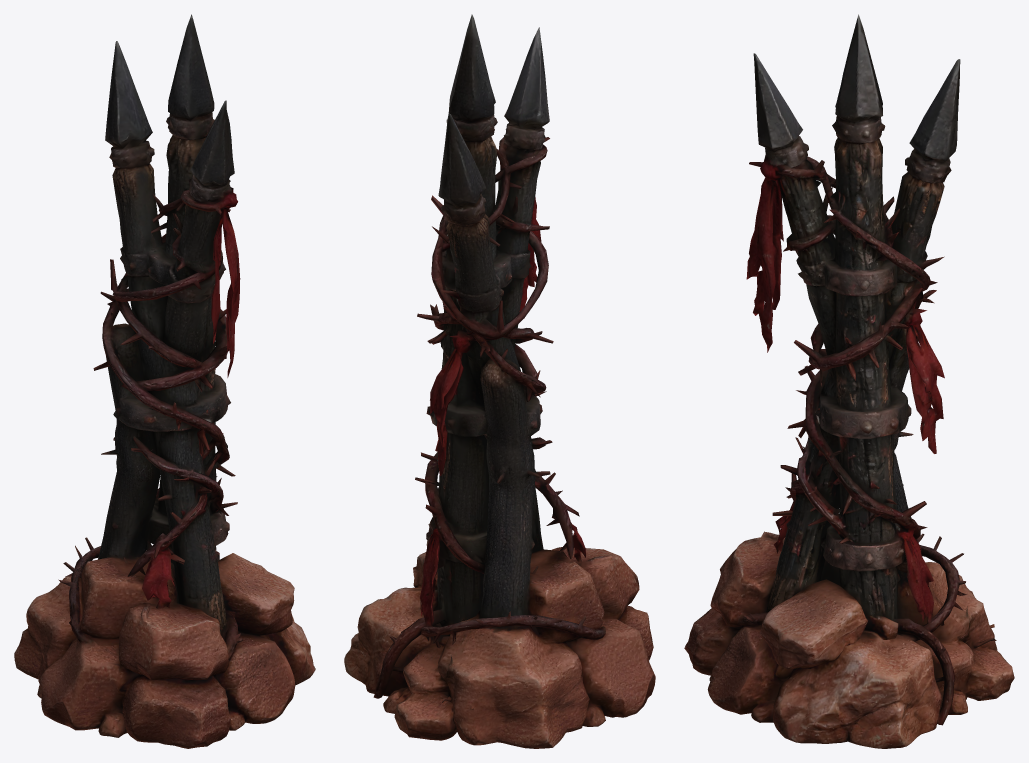
The model's file is kill_stakes.glb.
3 renders of one model, left to right at view 1: azimuth 30°, elevation 25°; view 2: azimuth 150°, elevation 25°; view 3: azimuth 270°, elevation 25°, orthographic. The views are drawn at different scales.
Visible parts, largest first — view 1: tripo_node_9b099df7-49e8-41f1-bac3-fe1ee402e160; view 2: tripo_node_9b099df7-49e8-41f1-bac3-fe1ee402e160; view 3: tripo_node_9b099df7-49e8-41f1-bac3-fe1ee402e160.
Boxes of the visible parts, bbox=[...] form: tripo_node_9b099df7-49e8-41f1-bac3-fe1ee402e160: bbox=[14, 14, 315, 748]; tripo_node_9b099df7-49e8-41f1-bac3-fe1ee402e160: bbox=[344, 14, 655, 748]; tripo_node_9b099df7-49e8-41f1-bac3-fe1ee402e160: bbox=[684, 14, 1014, 748].
Size of the model in its own units: 0.4184 by 1 by 0.4383.
Materials: 1 (1 with a texture image).
